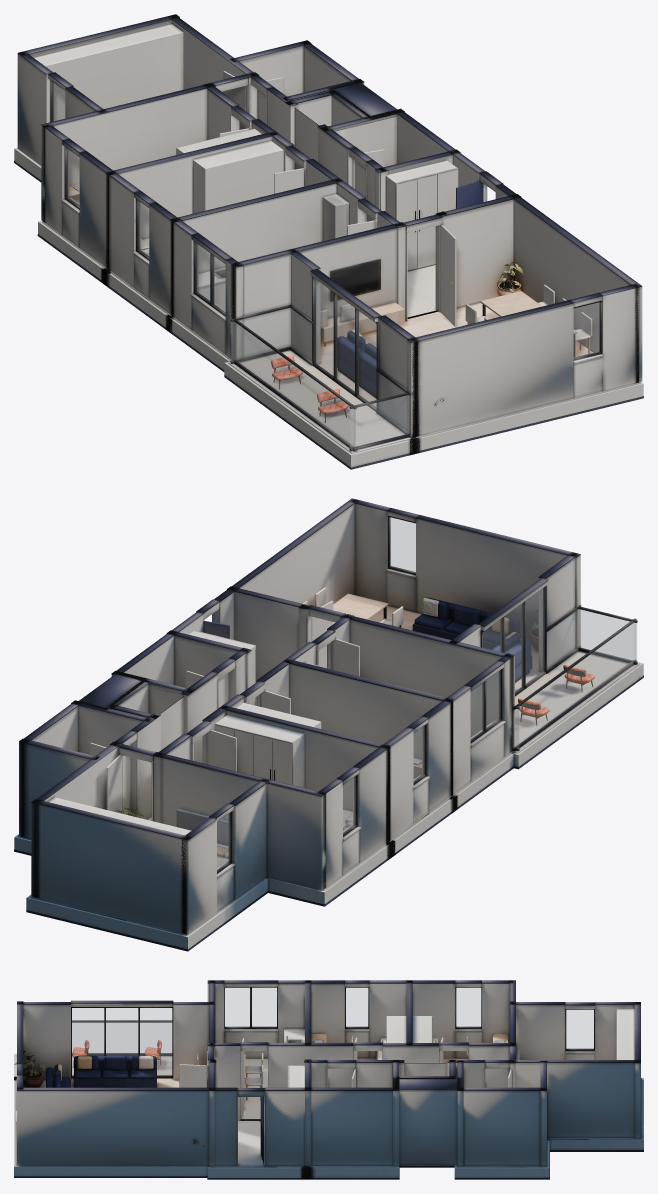
The picture shows the model from 3 angles, top to bottom: view 1: azimuth 30°, elevation 25°; view 2: azimuth 150°, elevation 25°; view 3: azimuth 270°, elevation 25°; orthographic projection. The views are drawn at different scales.
Parts seen in each view (by area): view 1: plan, glass4_m, railg2_m, railg1_m, railg0_m, glass3_m, glass5_m, railg4_m, railg3_m, glass1_m; view 2: plan, railg2_m, glass4_m, railg1_m, glass3_m, glass5_m, railg4_m, glass0_m, glass1_m; view 3: plan, glass4_m, railg2_m, glass3_m, glass0_m, glass1_m, glass2_m.
Boxes of the visible parts, left/top/right/bottom form: plan: left=14, top=14, right=643, bottom=469; glass4_m: left=314, top=279, right=376, bottom=407; railg2_m: left=233, top=322, right=355, bottom=448; railg1_m: left=350, top=395, right=408, bottom=447; railg0_m: left=231, top=308, right=290, bottom=360; glass3_m: left=196, top=243, right=225, bottom=312; glass5_m: left=574, top=302, right=599, bottom=357; railg4_m: left=377, top=372, right=406, bottom=431; railg3_m: left=290, top=308, right=311, bottom=361; glass1_m: left=66, top=148, right=79, bottom=206; plan: left=14, top=498, right=643, bottom=951; railg2_m: left=514, top=623, right=635, bottom=748; glass4_m: left=483, top=588, right=544, bottom=692; railg1_m: left=579, top=609, right=636, bottom=661; glass3_m: left=471, top=670, right=500, bottom=739; glass5_m: left=390, top=517, right=415, bottom=572; railg4_m: left=547, top=611, right=575, bottom=669; glass0_m: left=217, top=813, right=229, bottom=870; glass1_m: left=343, top=776, right=355, bottom=833; plan: left=14, top=980, right=643, bottom=1179; glass4_m: left=72, top=1008, right=171, bottom=1075; railg2_m: left=72, top=1023, right=171, bottom=1052; glass3_m: left=225, top=988, right=276, bottom=1026; glass0_m: left=566, top=1010, right=593, bottom=1048; glass1_m: left=456, top=988, right=480, bottom=1026; glass2_m: left=346, top=988, right=367, bottom=1026.
Bounding box in the file's own units: 7.35 × 2.62 × 17.09.
Materials: 2 (1 with a texture image).
